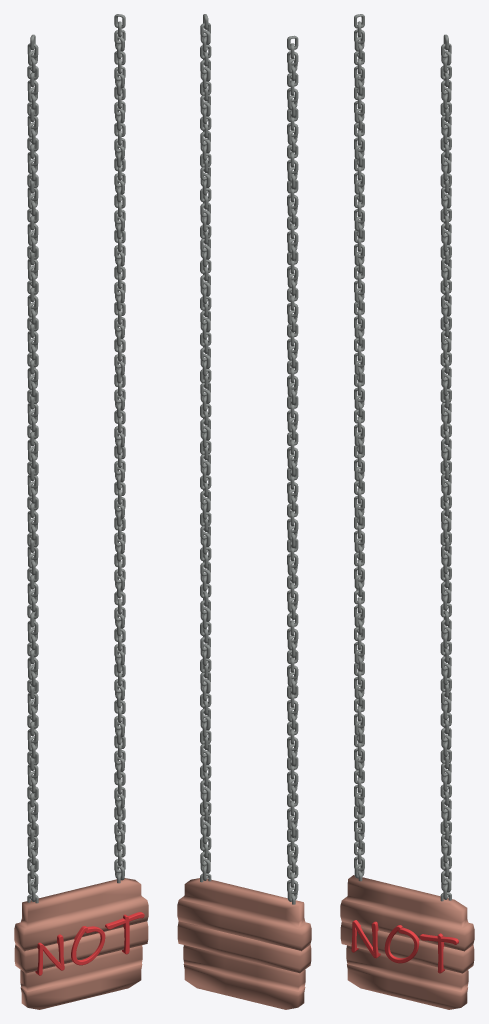
File: VraiPetitSigne 1.fbx
3 views of the same model, side by side, from view 1: azimuth 30°, elevation 25°; view 2: azimuth 150°, elevation 25°; view 3: azimuth 330°, elevation 25° (orthographic).
Visible parts, largest first — view 1: Cube.014, Cube.013; view 2: Cube.014, Cube.013; view 3: Cube.014, Cube.013.
Part boxes in pixels (x1,y1,x2,y2): Cube.014: (27,14,125,903); Cube.013: (14,878,148,1009); Cube.014: (200,14,298,904); Cube.013: (177,878,311,1009); Cube.014: (354,14,451,901); Cube.013: (340,875,474,1009).
Size of the model in its own units: 78.83 by 586 by 13.7.
